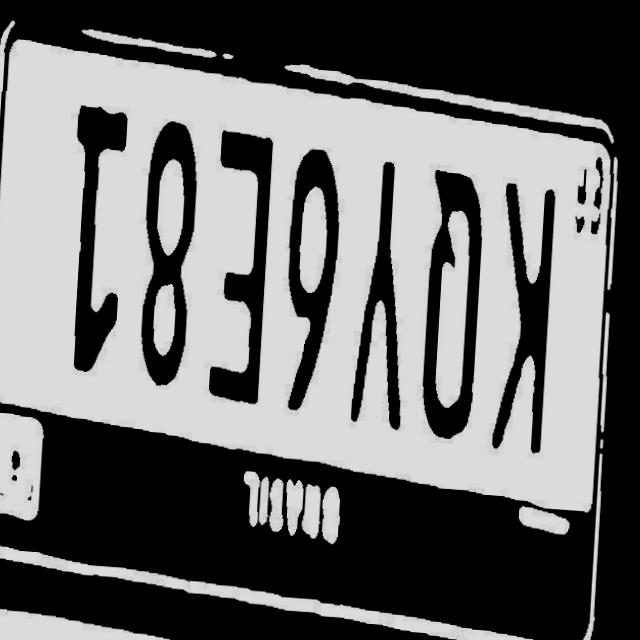1: (64, 99, 136, 393)
6: (273, 136, 348, 434)
8: (135, 104, 203, 411)
e: (202, 116, 278, 425)
k: (489, 162, 572, 451)
q: (415, 151, 491, 443)
y: (345, 126, 426, 436)
